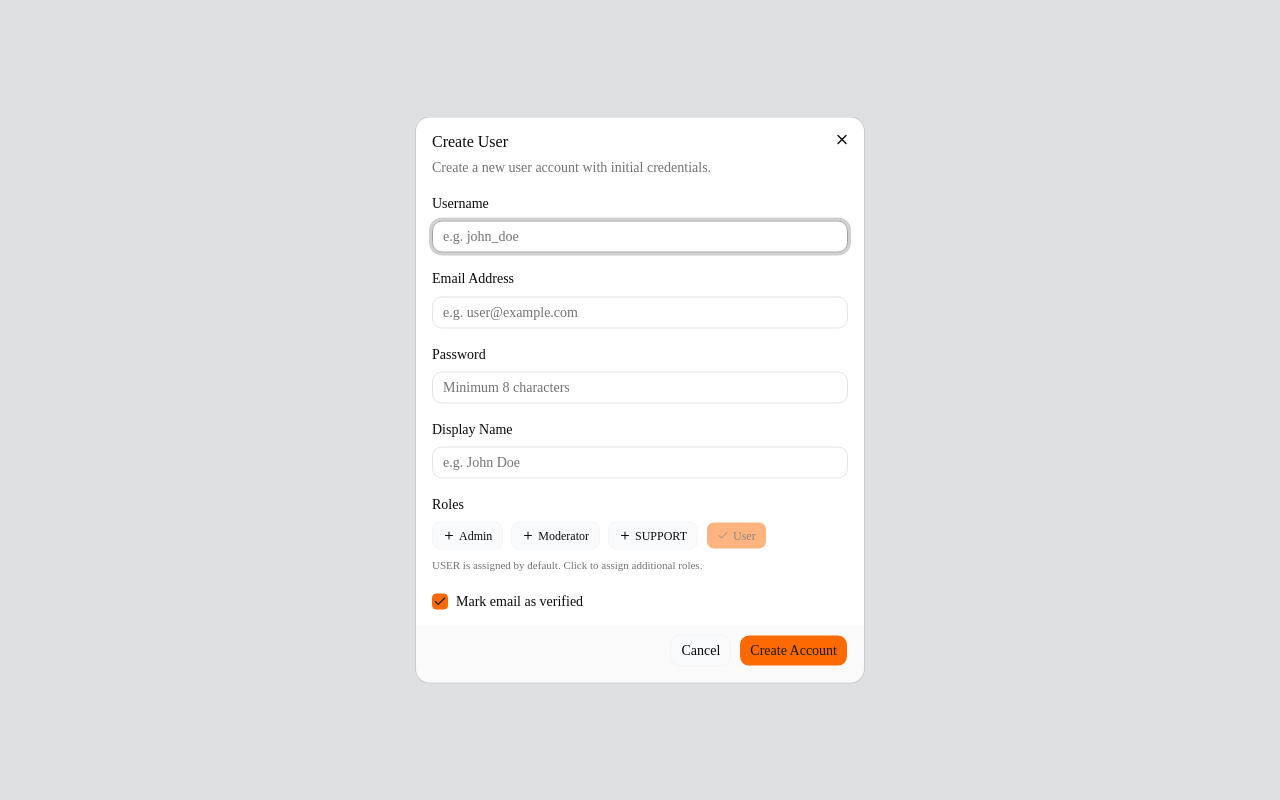
User Dialogs › CreateUserDialog › shows validation errors for short username or password
Type "ab" into the field labelled "Username" at (640, 237), box [432,221,848,253]
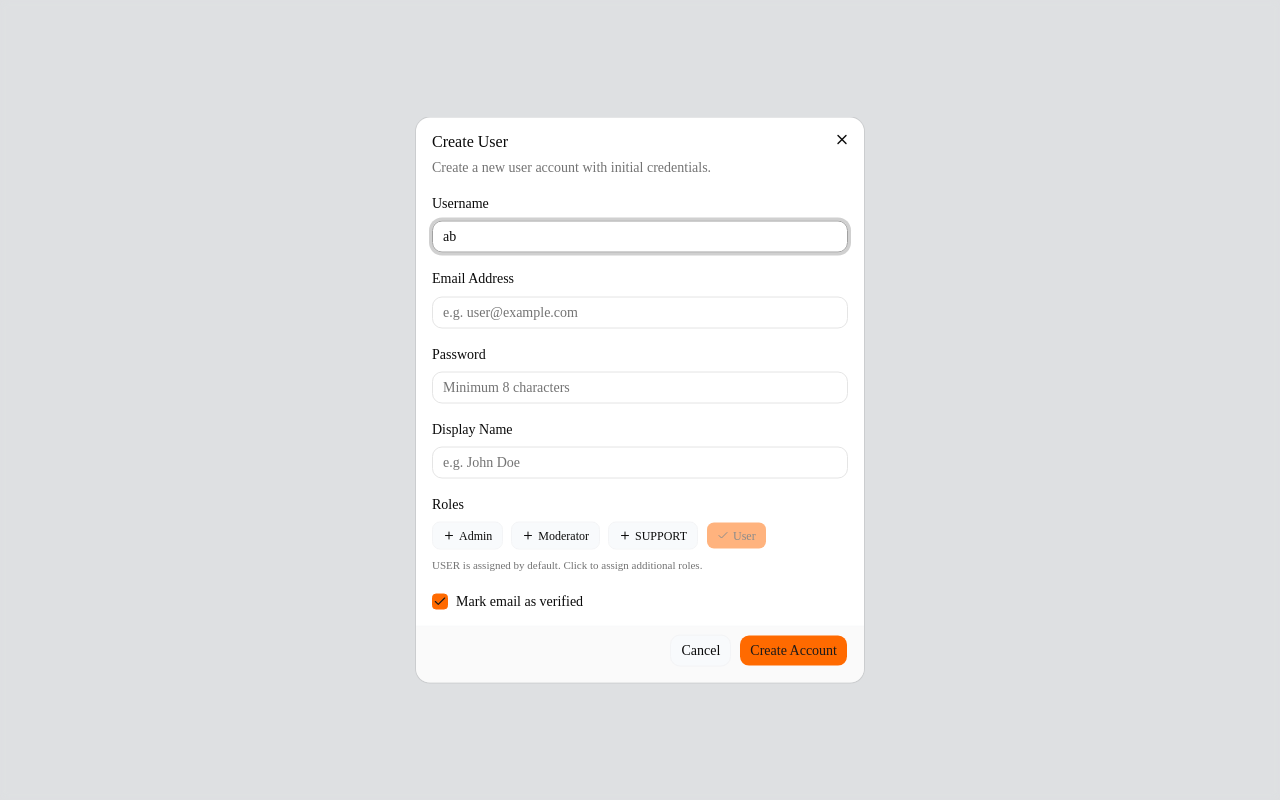
Type "invalid-email" into the field labelled "Email Address" at (640, 312), box [432,296,848,328]
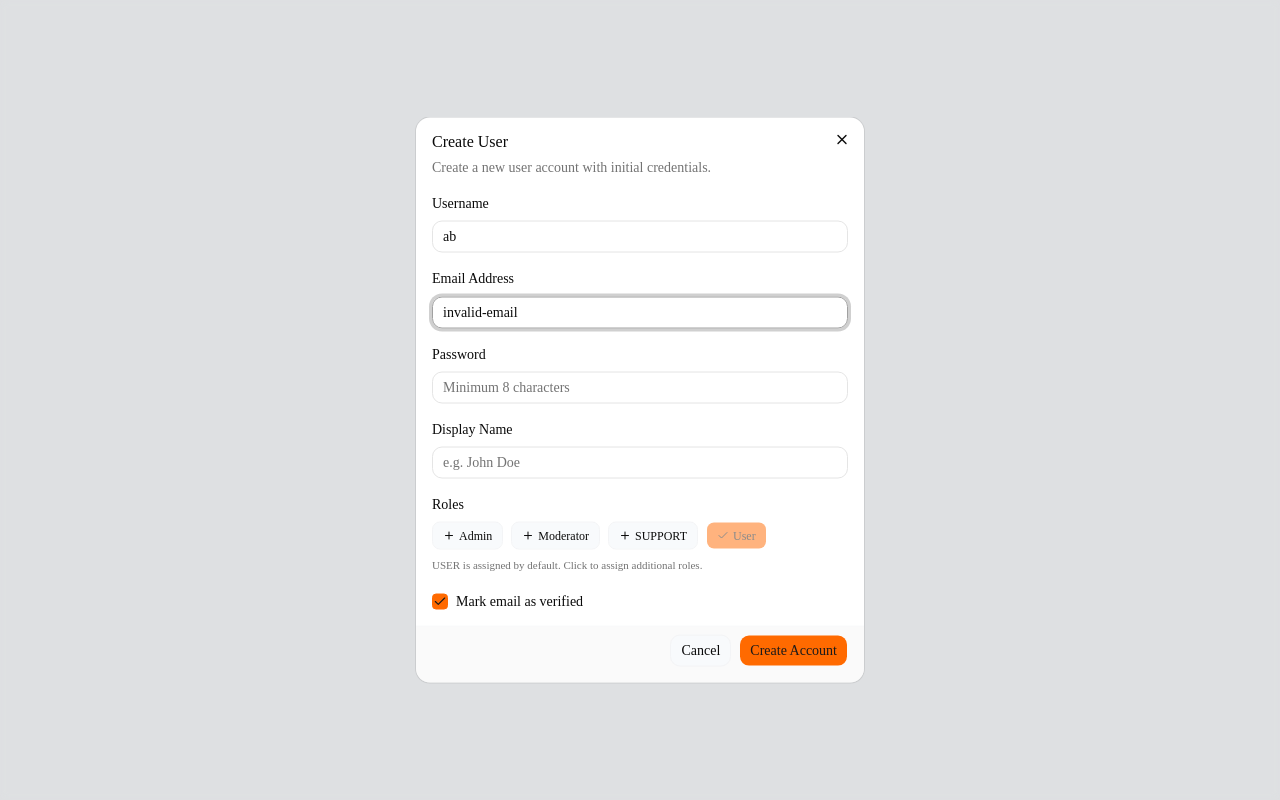
Type "123" into the password field labelled "Password" at (640, 387), box [432,371,848,403]
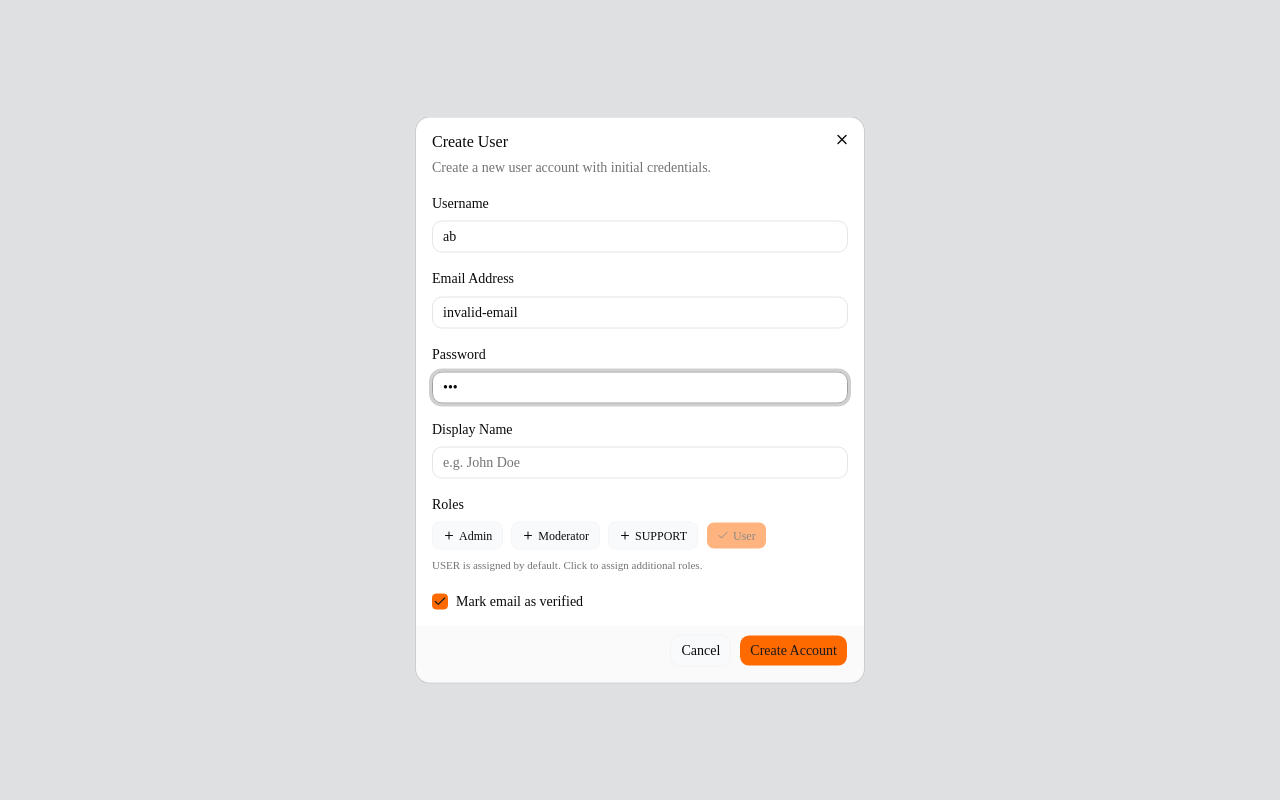
Click the button "Create Account" at (794, 650), box [739,634,848,666]
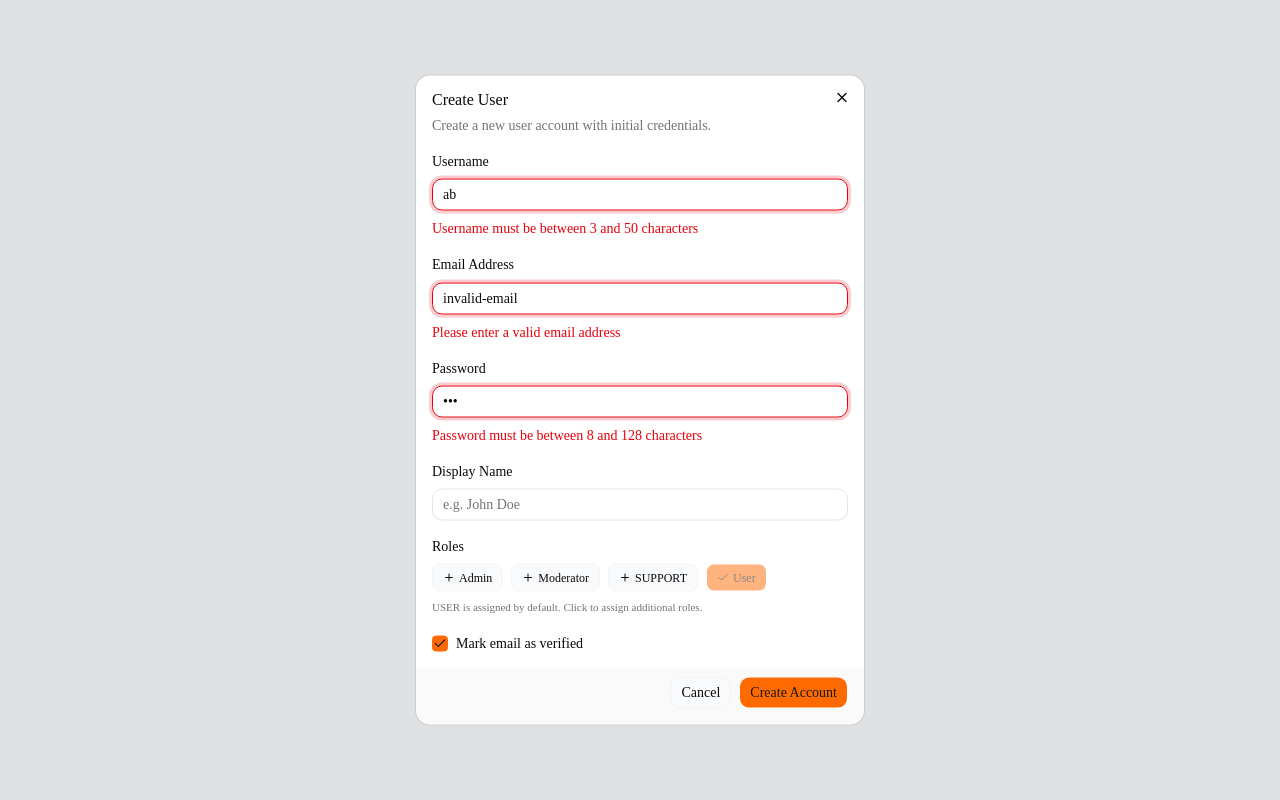
Check: the text "Username must be between 3 and 50 characters" is shown, box [432,221,698,236]
Check: the text "Please enter a valid email address" is shown, box [432,324,620,339]
Check: the text "Password must be between 8 and 128 characters" is shown, box [432,427,702,442]
